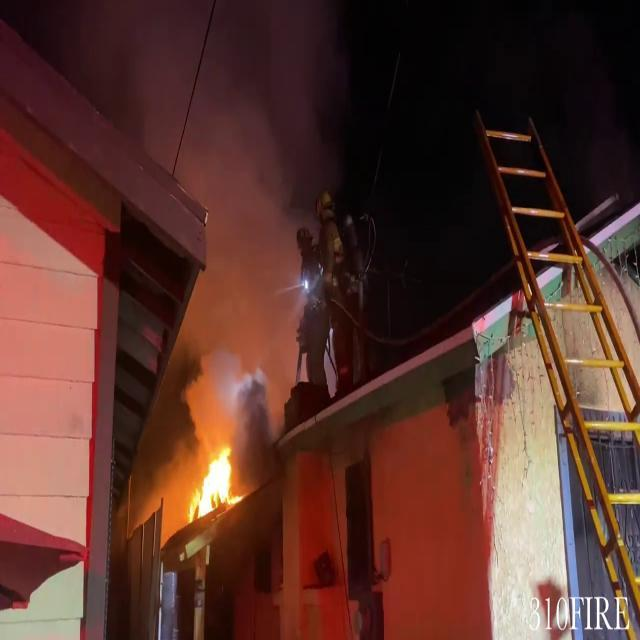Fire: (191, 433, 239, 516)
Smoke: (140, 18, 296, 408)
